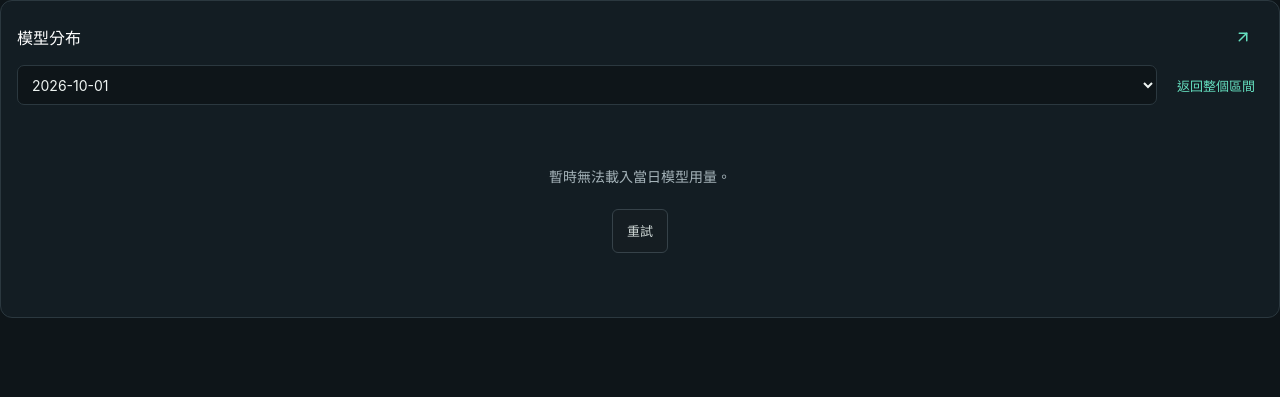
shows a recoverable error and a truthful empty day
This screenshot has width=1280, height=397.
Expected: the text "暫時無法載入當日模型用量。" is shown, [549,168,731,185]
What coordinates should you click on to do the following:
click the button "重試"
I would click on:
 (640, 231)
Its box is [612,209,668,253].
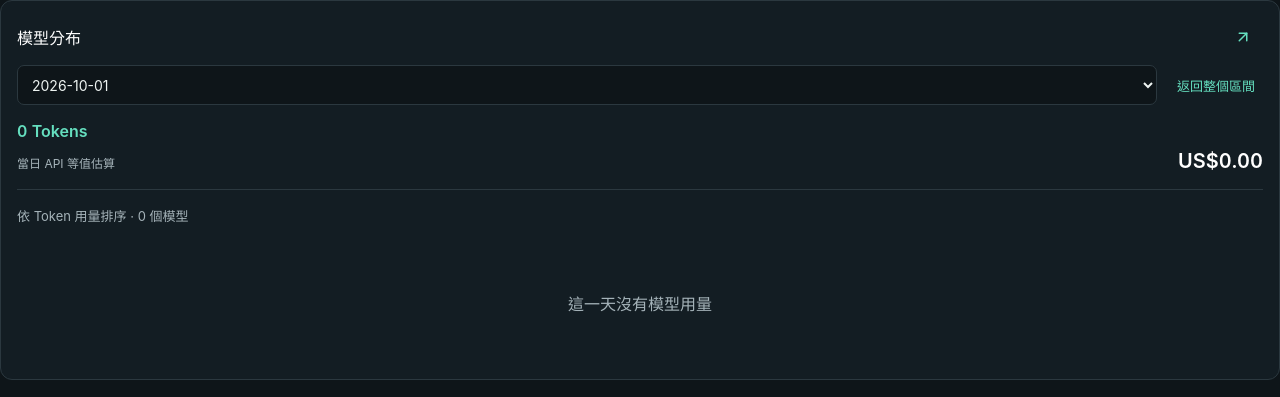
Result: the text "這一天沒有模型用量" is shown at [568,294,712,314]
Result: the text "0 Tokens" is shown at [17,121,88,141]
Result: the text "US$0.00" is shown at [1178,149,1263,173]
